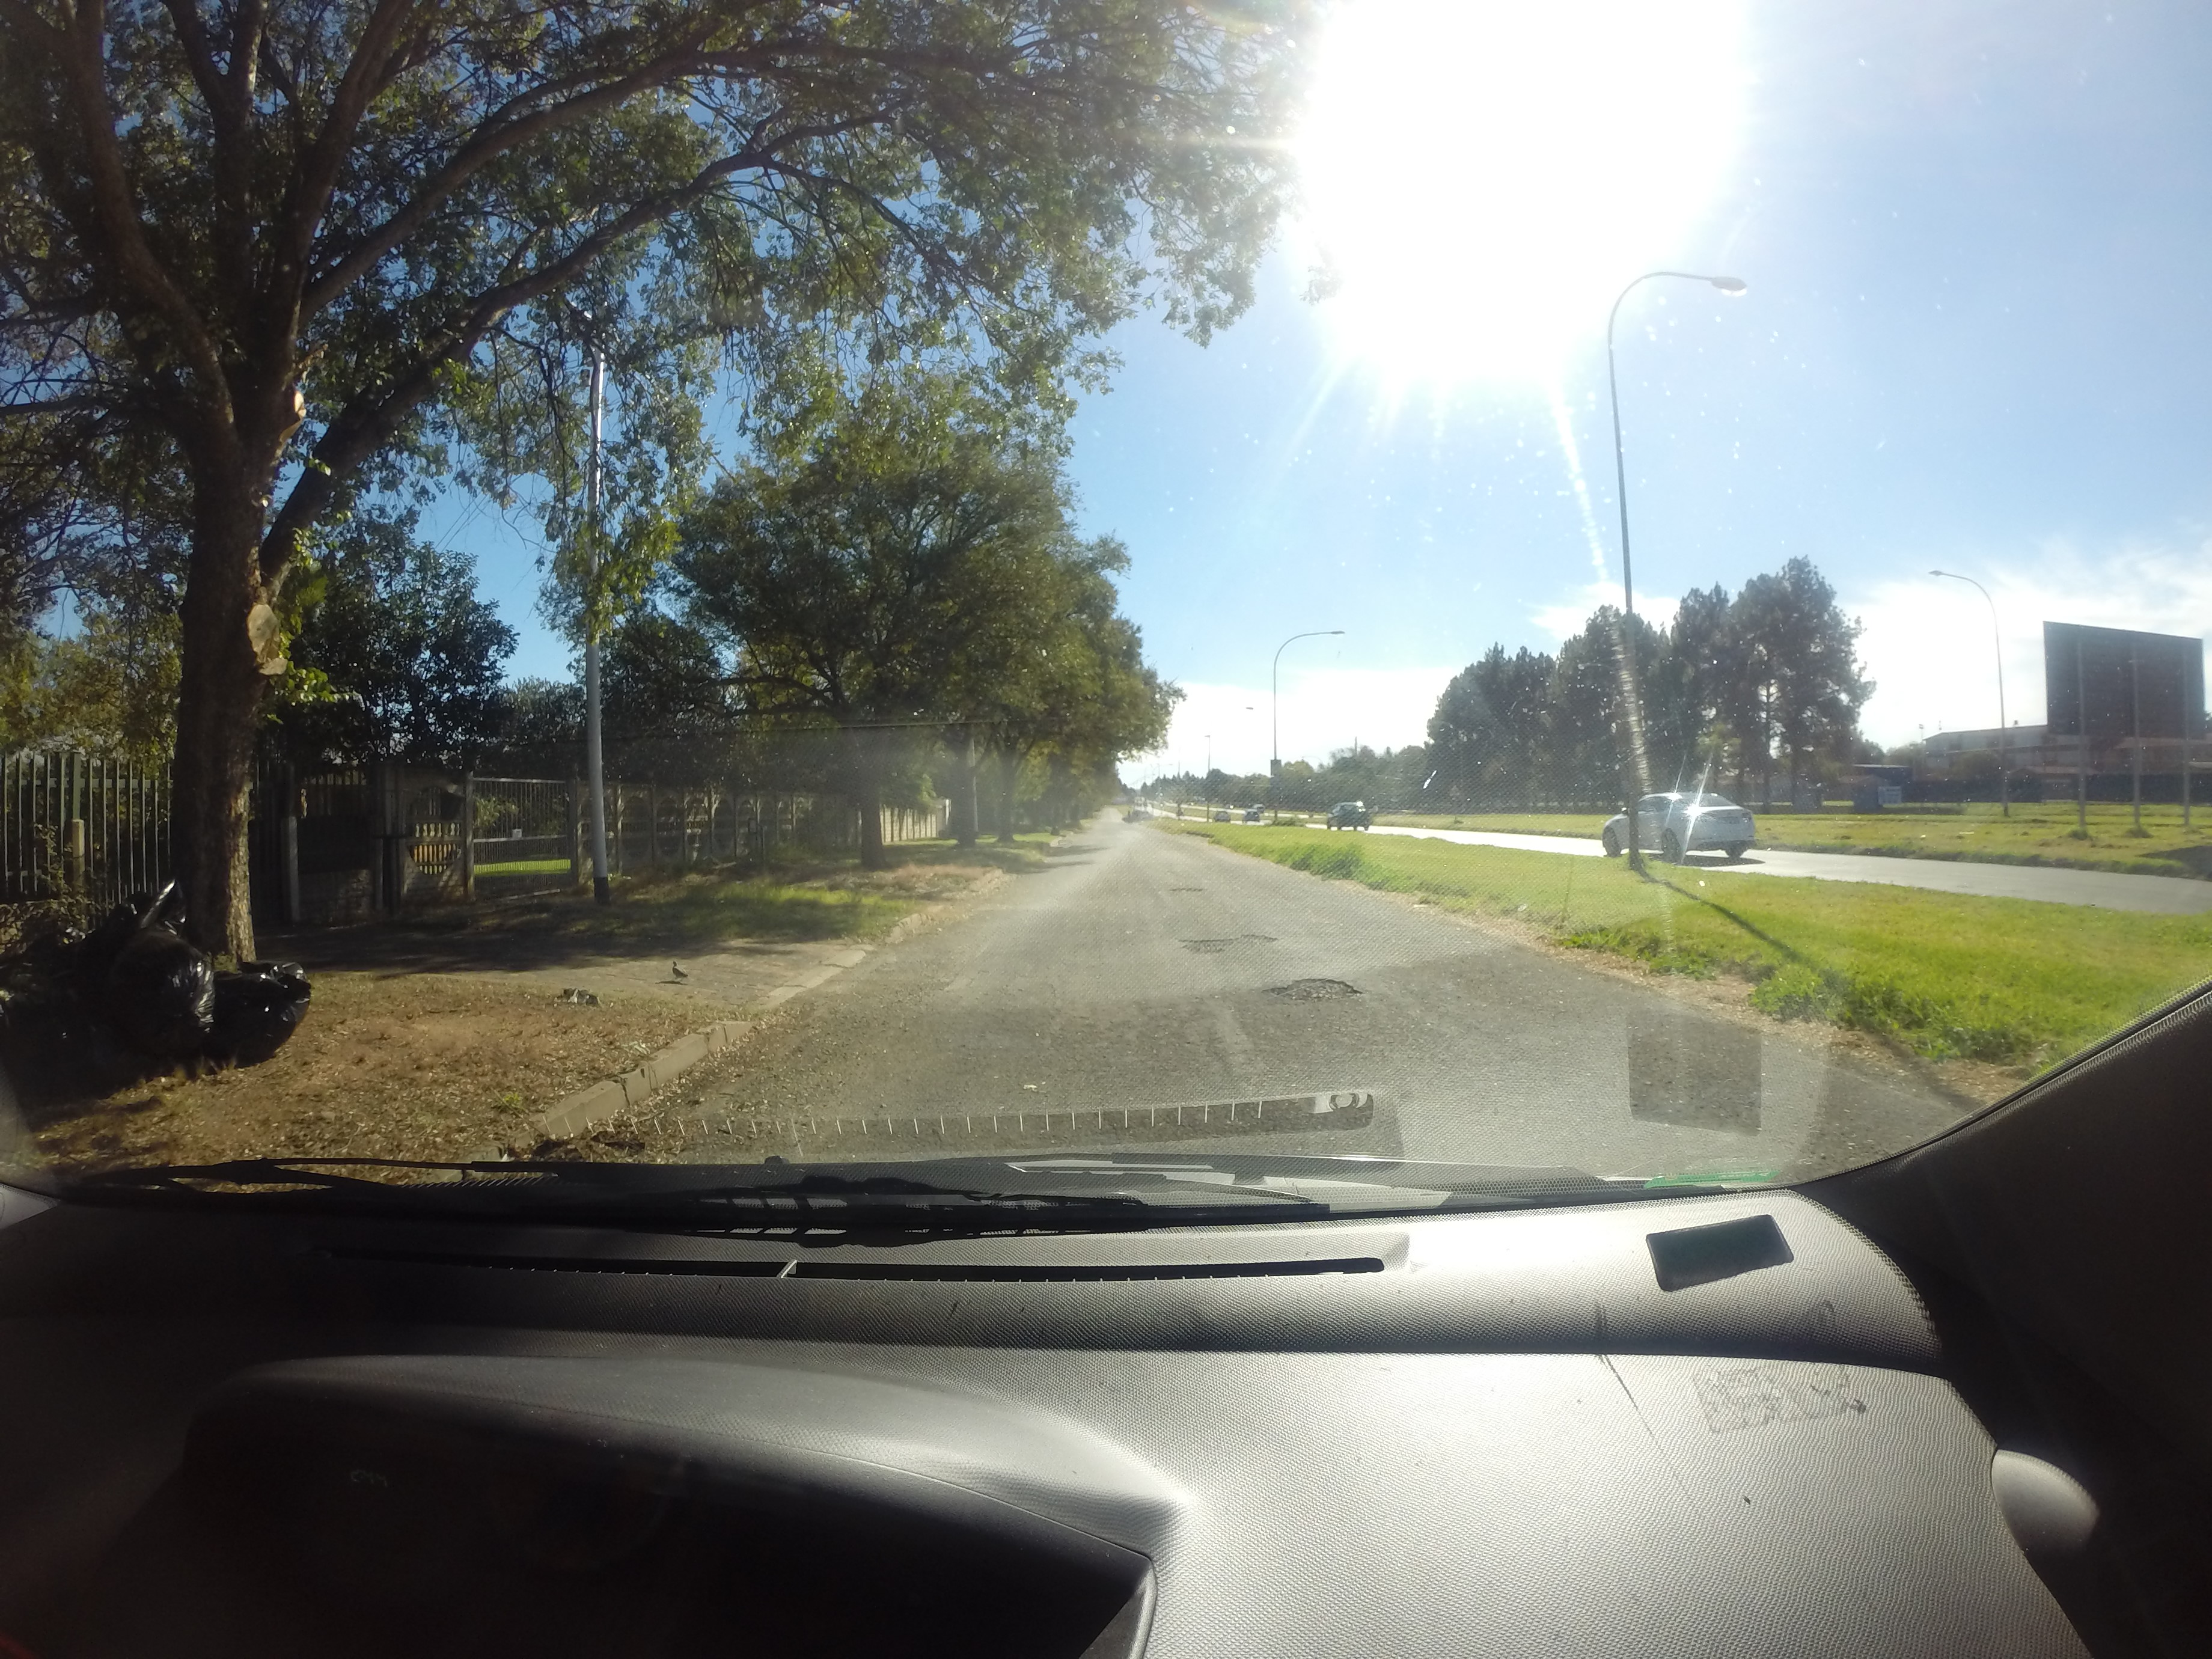pothole: (1240, 955, 1411, 1026), (1160, 917, 1291, 978)
